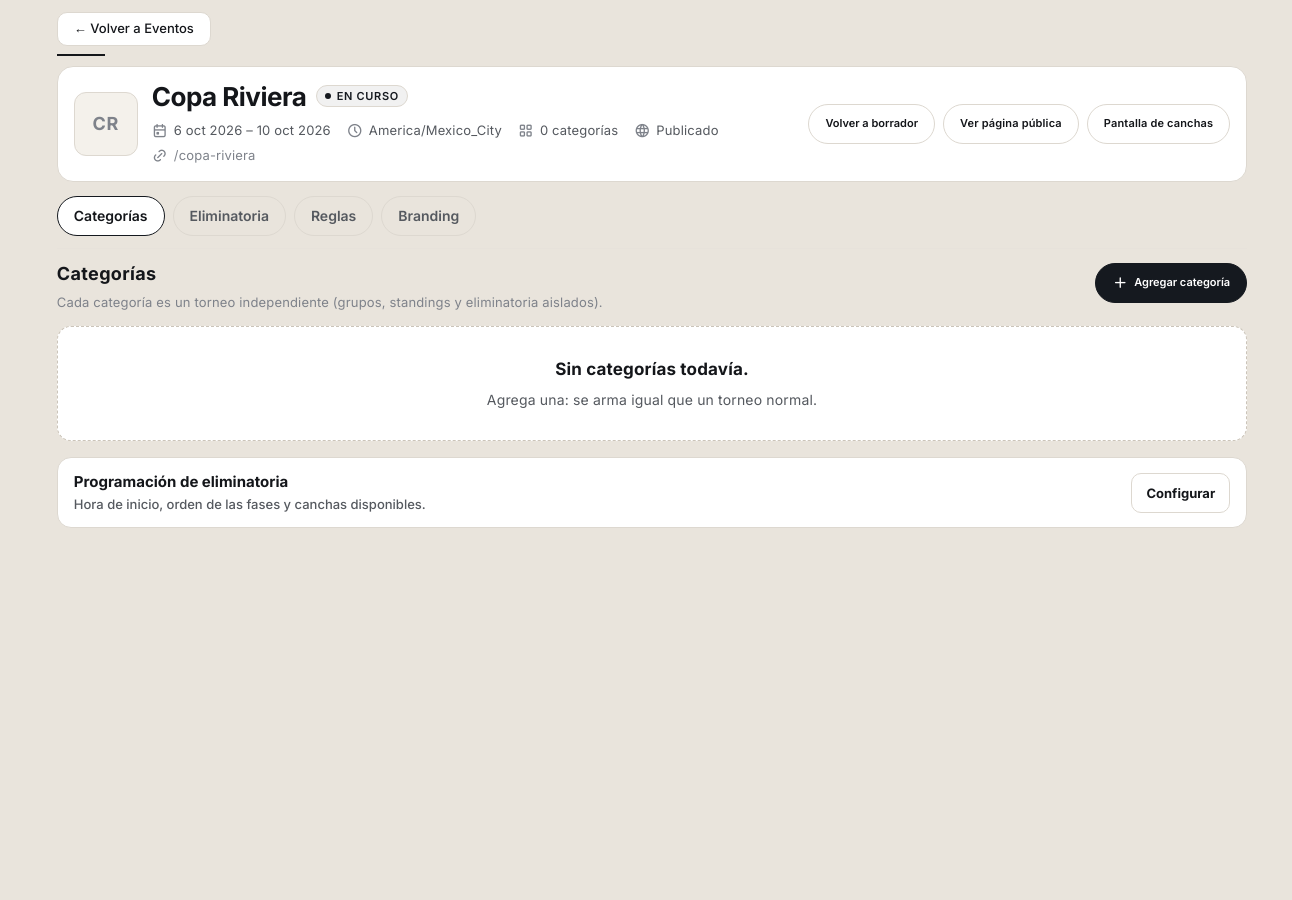
EventoDetalle (Fase 2) › guardar reglas limpia el estado sucio y libera la navegación
Expected: the heading "Copa Riviera" is shown, [152, 81, 306, 112]
Click the tab "Reglas" at [334, 216], box [294, 196, 373, 236]
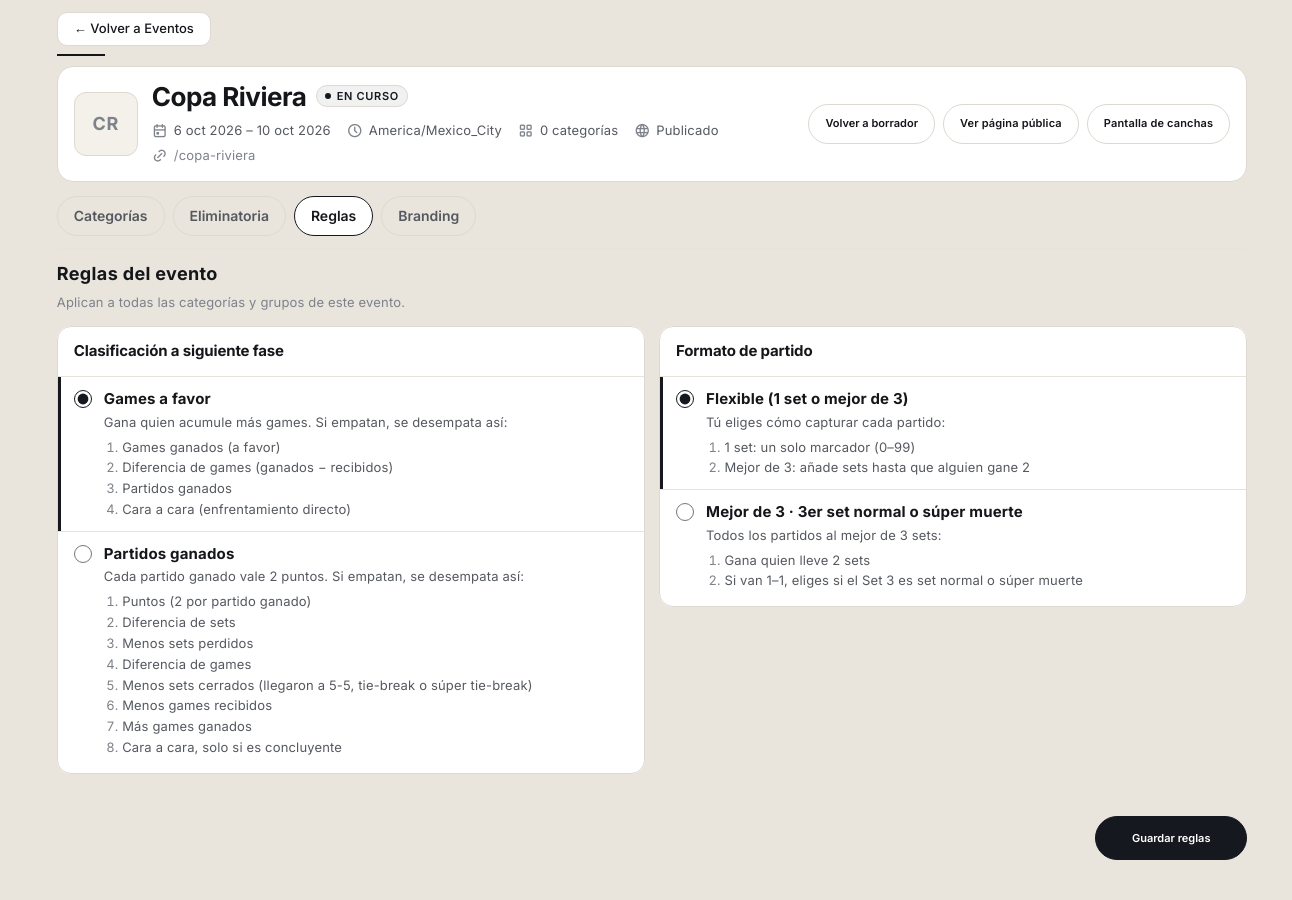
Click the 4th radio button at [83, 554], box [74, 545, 92, 563]
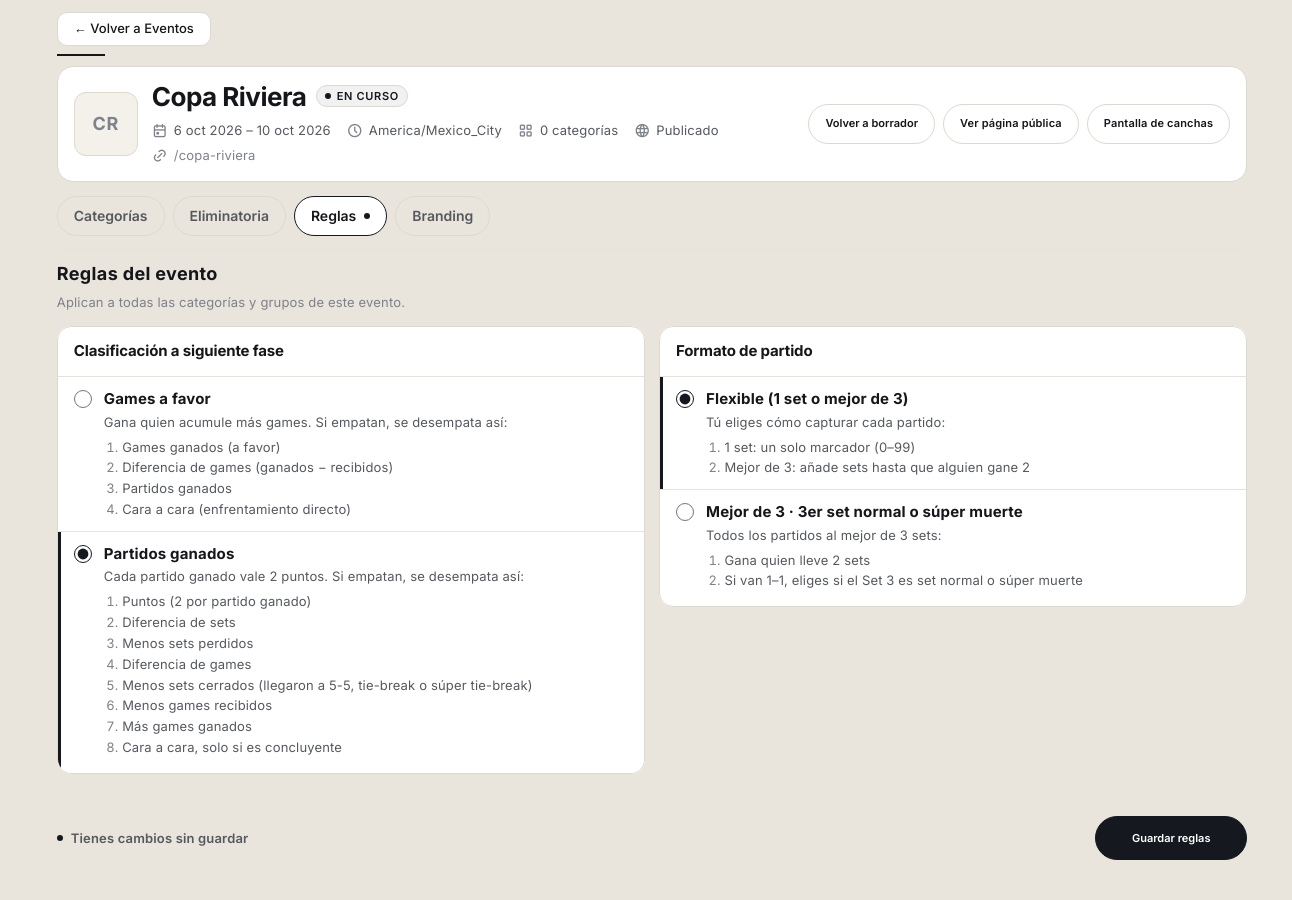
Click the button "Guardar reglas" at [1171, 838], box [1095, 816, 1247, 860]
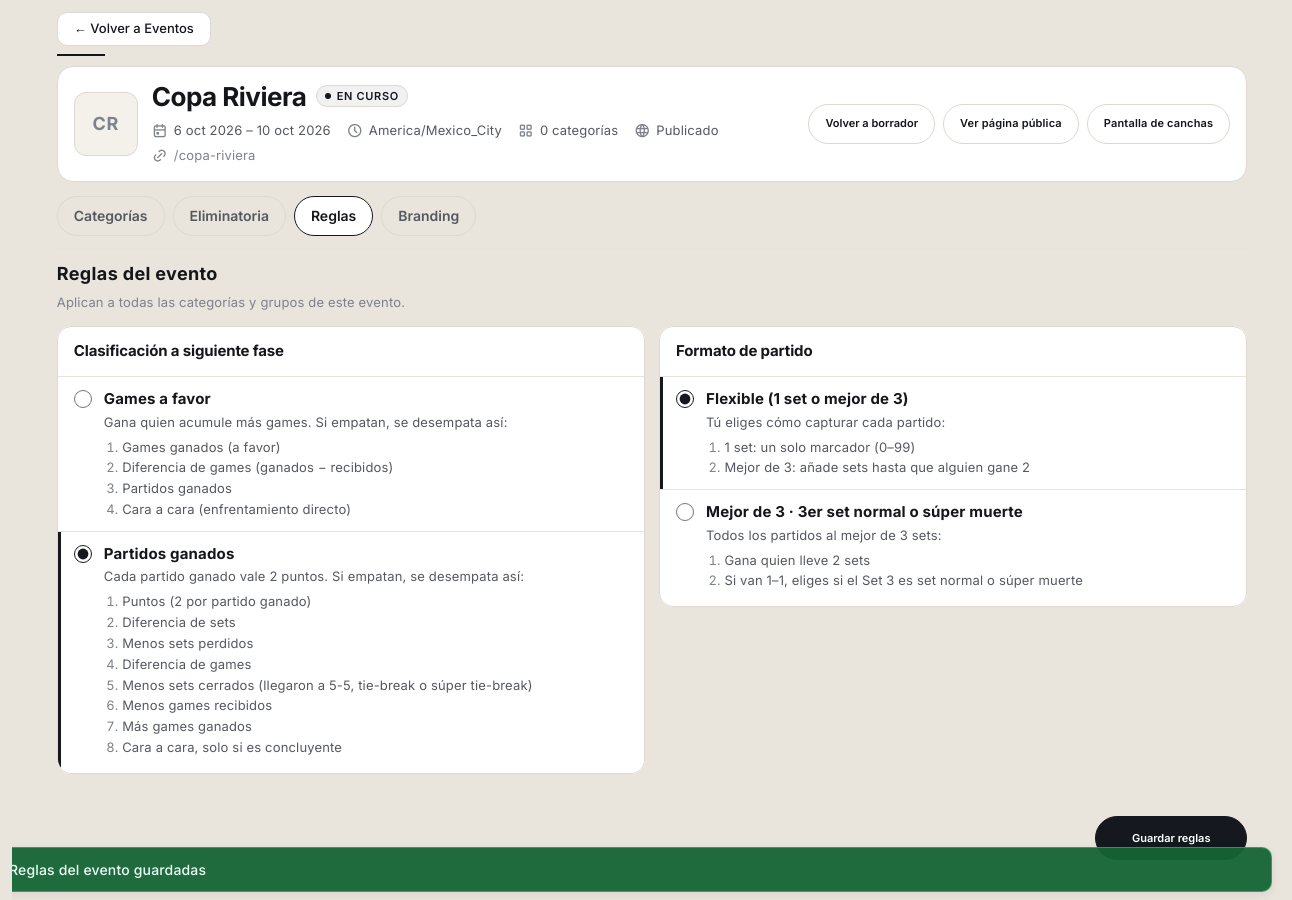
Result: the text "Tienes cambios sin guardar" is gone
